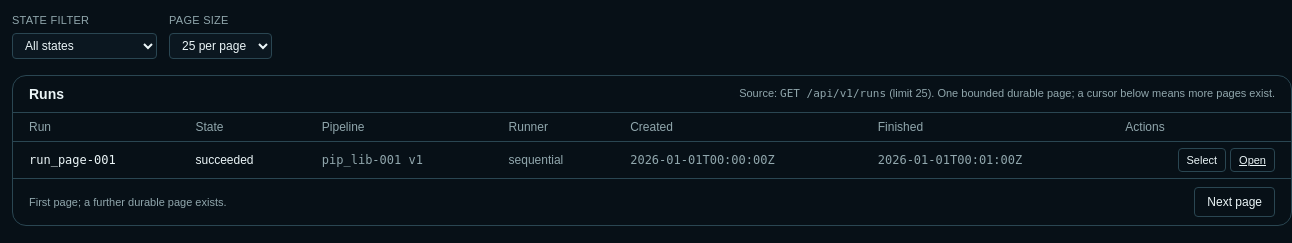
it: RunList › paginates deterministically through the URL cursor
Step 1. Click the button with test id "runs-next" → (1235, 202), box [1194,187,1275,217]
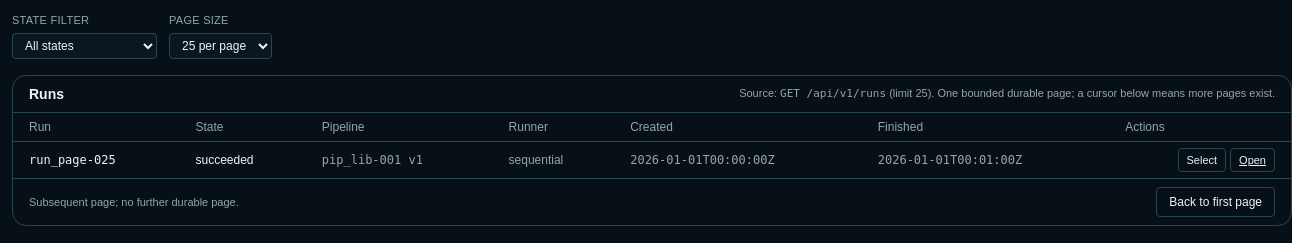
Result: the row with test id "run-row-run_page-025" is shown at [13,141,1291,178]
Result: the button with test id "runs-prev" is enabled at [1156,187,1275,217]
Result: the text with test id "runs-page-status" shows "no further durable page" at [115,196,239,208]
